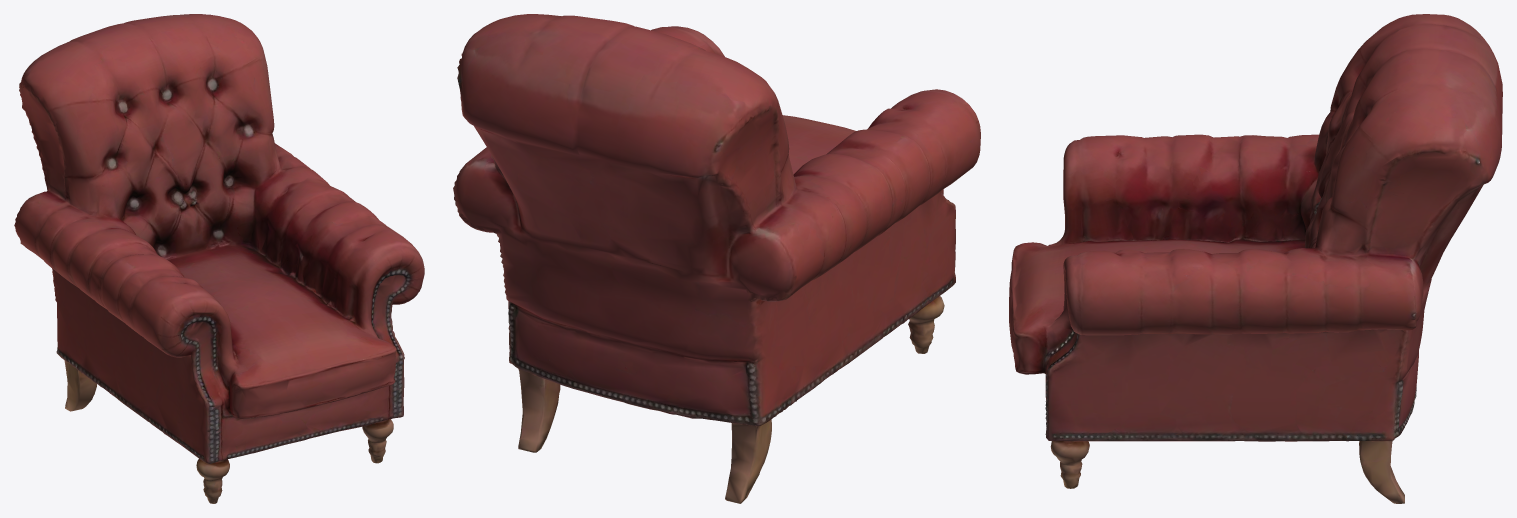
Rendered from cigar-armchair-oxblood.glb.
3 views of the same model, side by side, from view 1: azimuth 30°, elevation 25°; view 2: azimuth 150°, elevation 25°; view 3: azimuth 270°, elevation 25° (orthographic). The views are drawn at different scales.
Bounding box in the file's own units: 1.45 × 1.82 × 2.
Materials: 1 (1 with a texture image).
